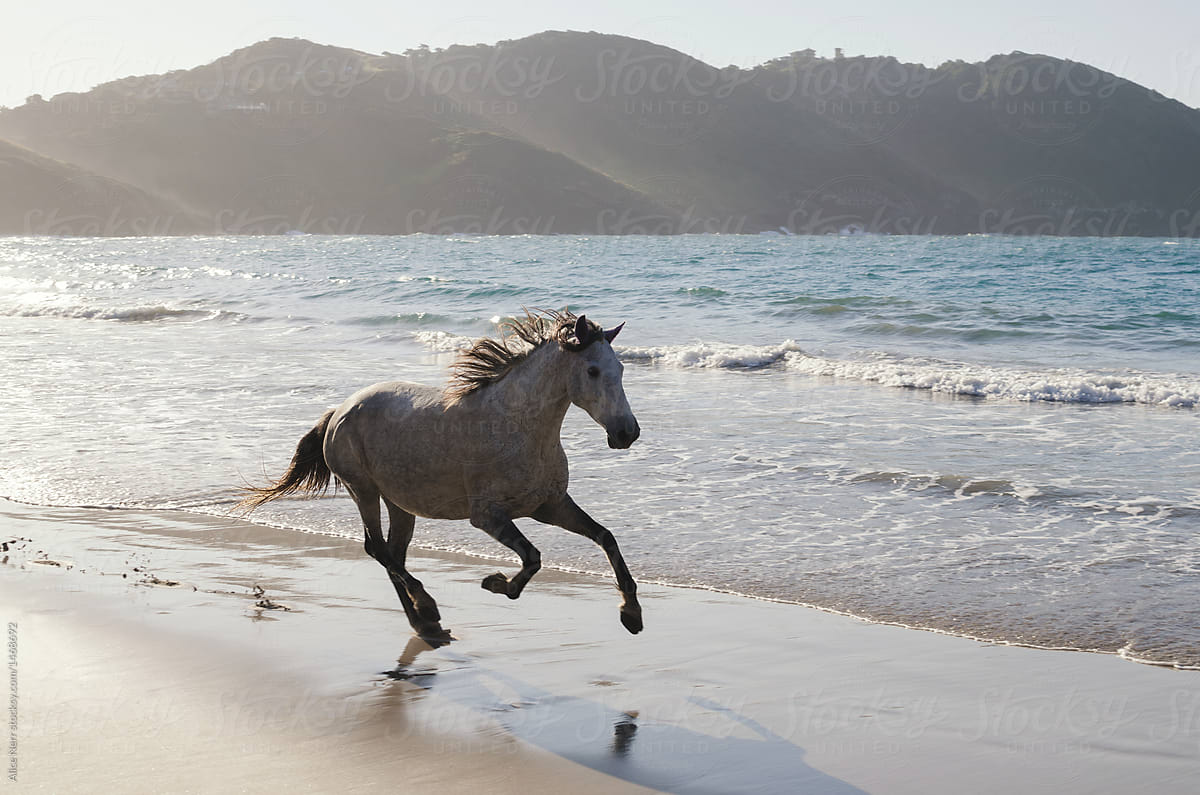Horse: (284, 307, 739, 667)
